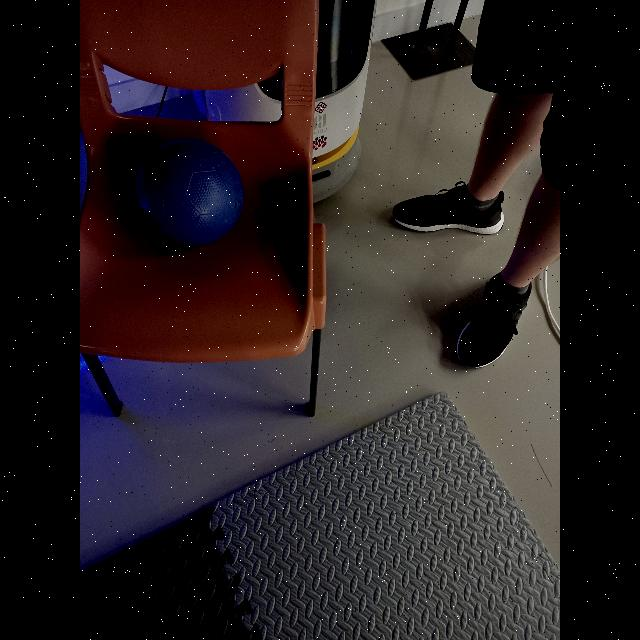B: (137, 141, 247, 245)
